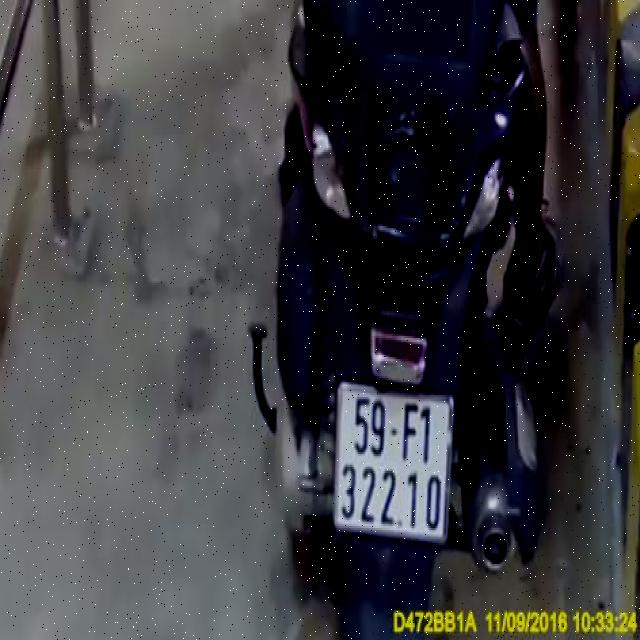0: (425, 474, 442, 534)
1: (419, 406, 433, 464), (408, 471, 421, 530)
2: (361, 464, 377, 527), (380, 468, 397, 527)
3: (340, 460, 359, 522)
5: (352, 392, 370, 457)
9: (371, 401, 386, 462)
F: (402, 400, 419, 461)
